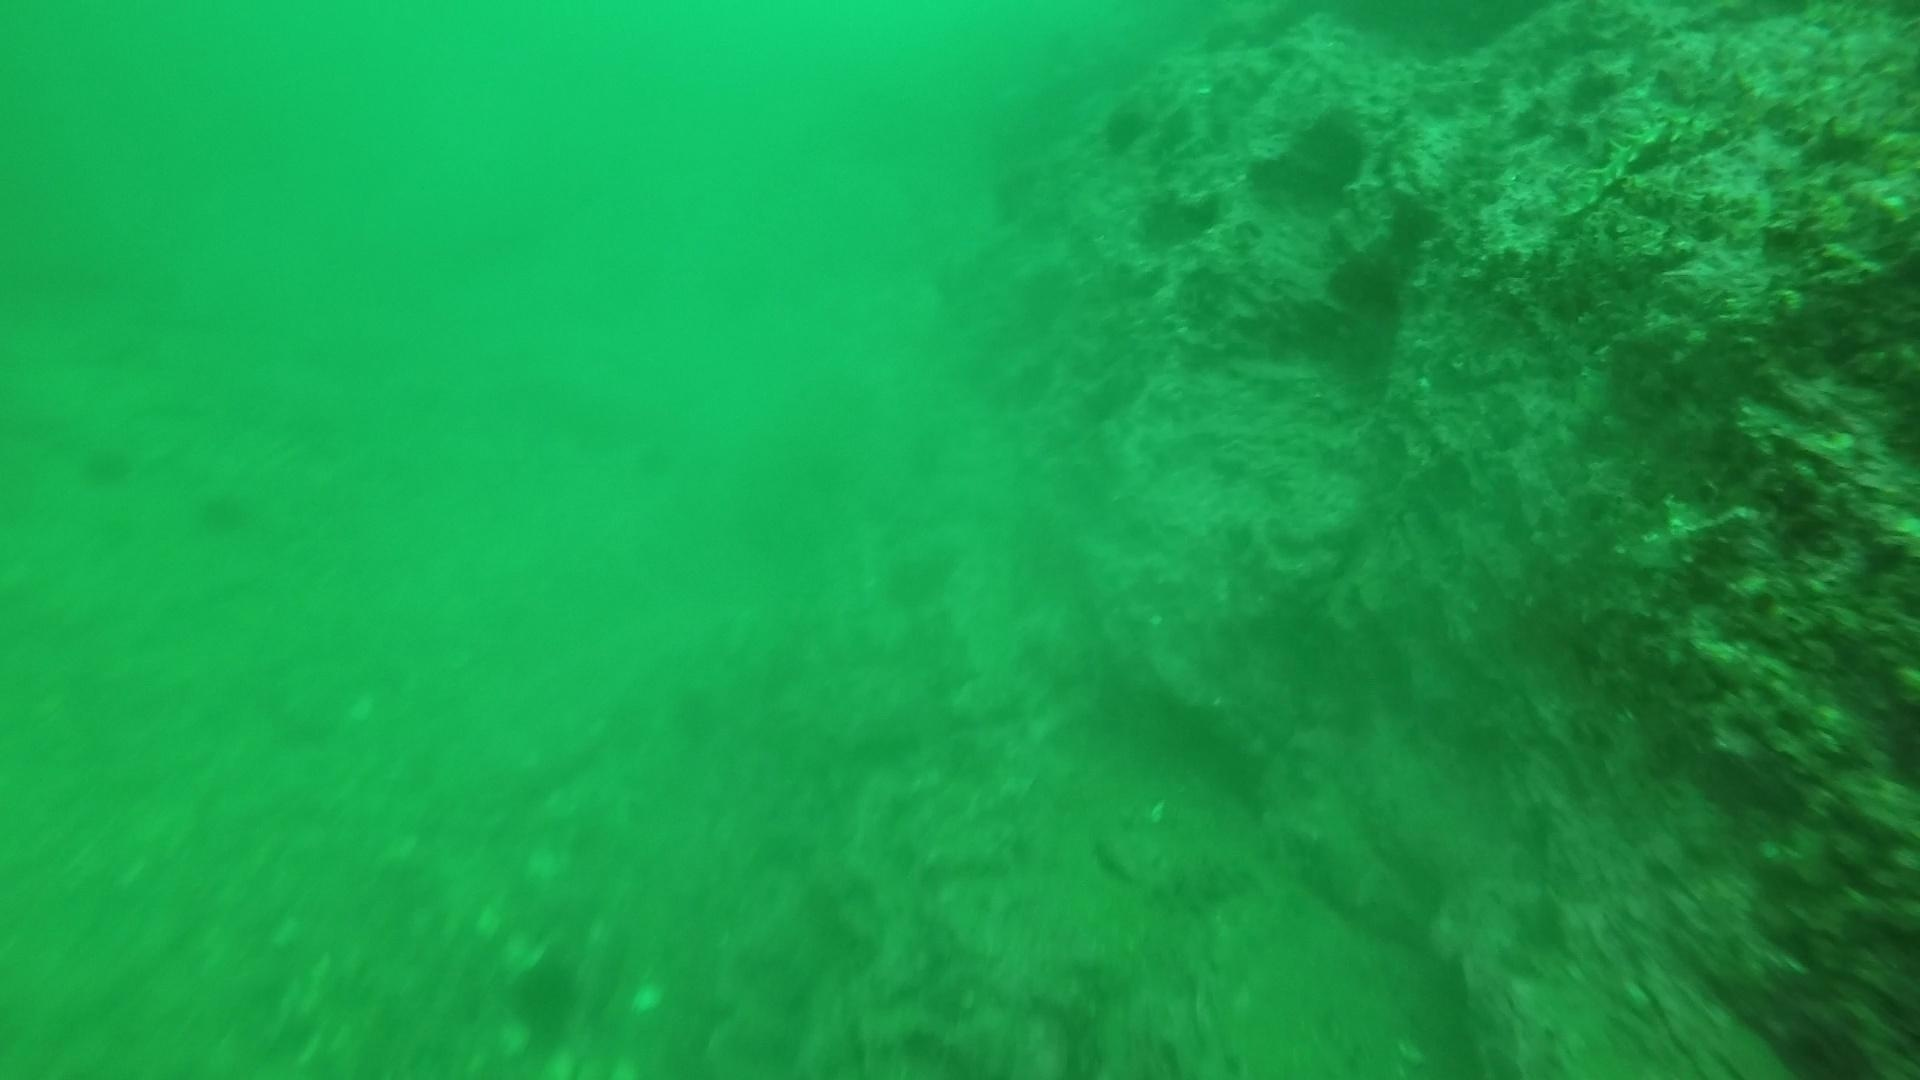echinus: (502, 949, 585, 1042), (190, 480, 258, 541), (74, 435, 138, 493), (1095, 98, 1153, 160)
